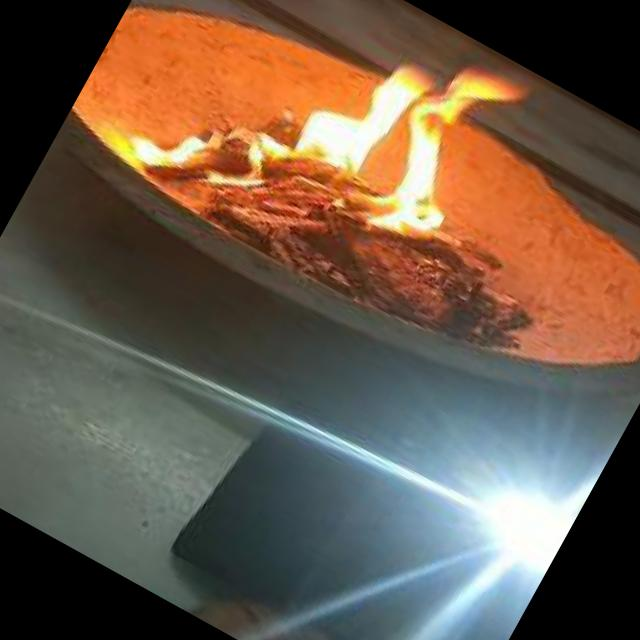fire: (131, 0, 548, 318)
